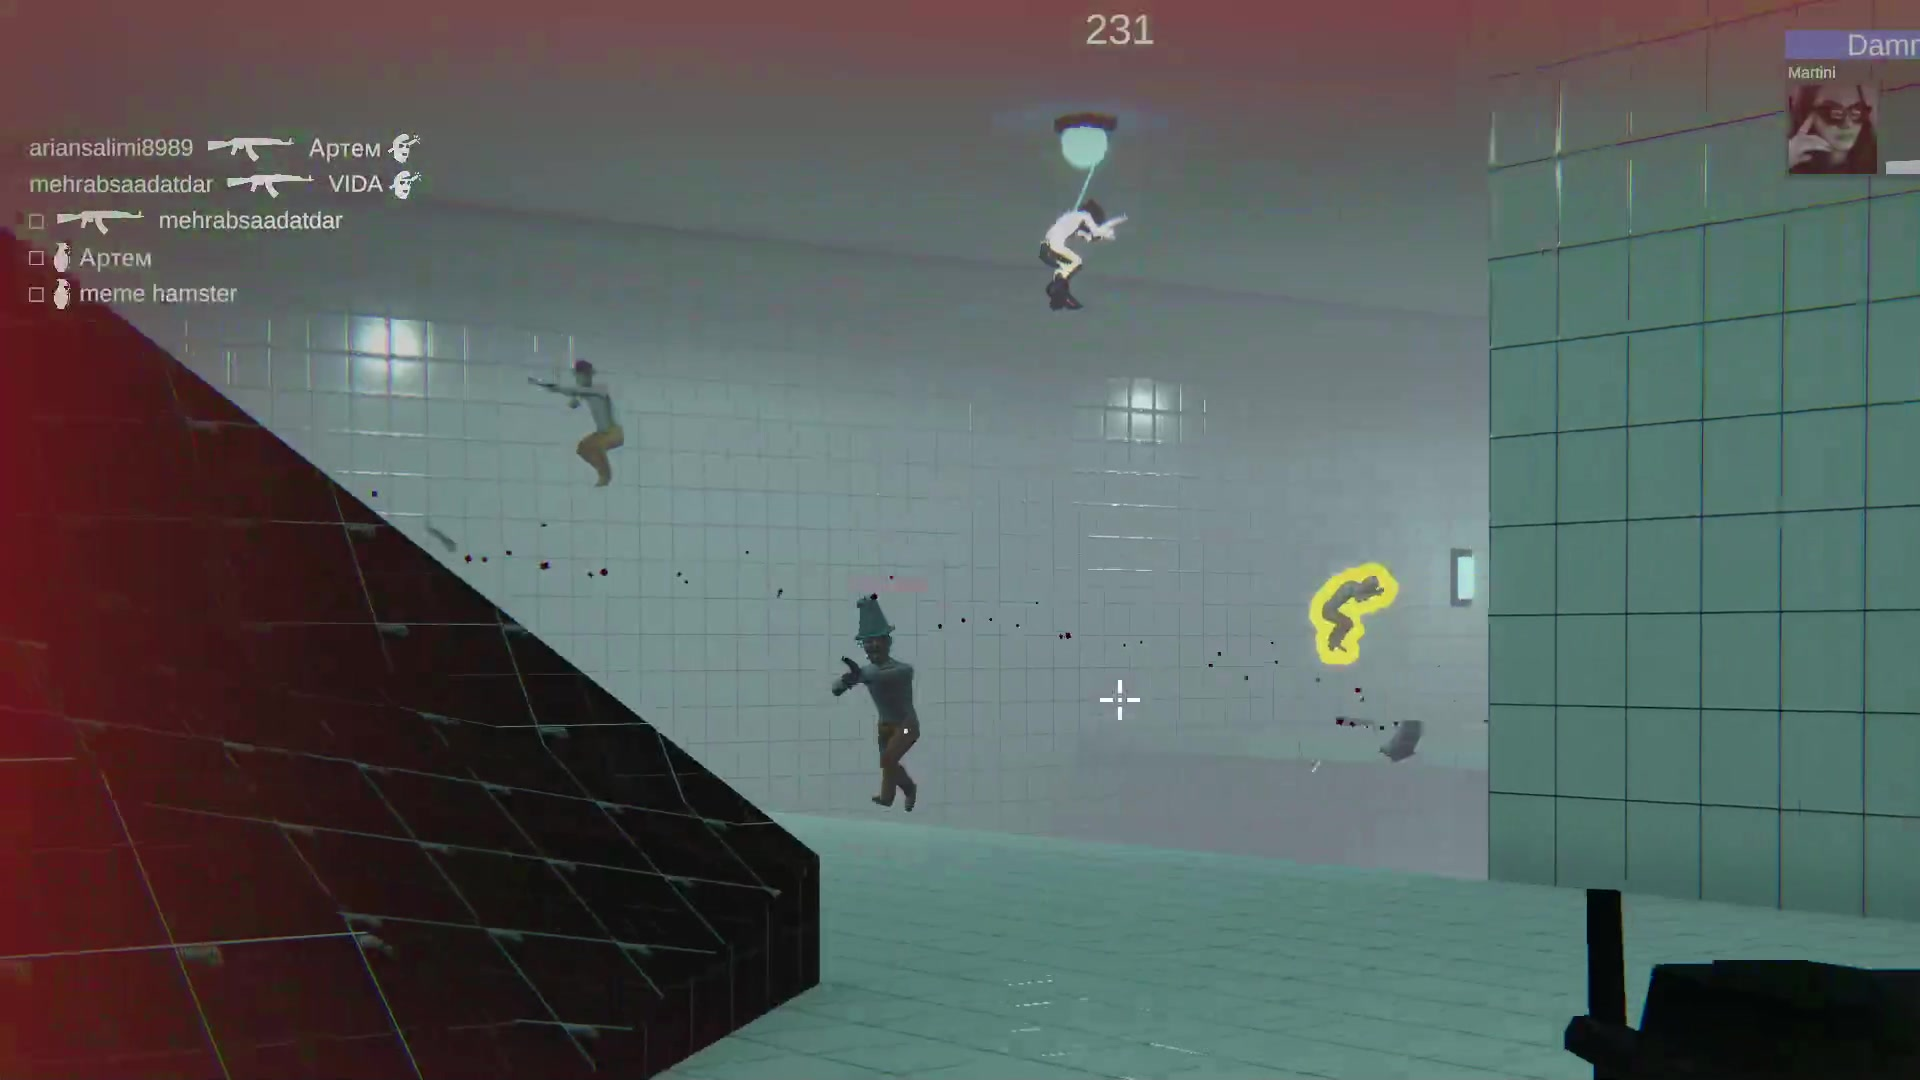human: (841, 599, 919, 812), (1047, 201, 1119, 322), (553, 358, 624, 476), (1319, 553, 1389, 672)
